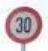Gioi han toc do: (5, 7, 43, 43)
